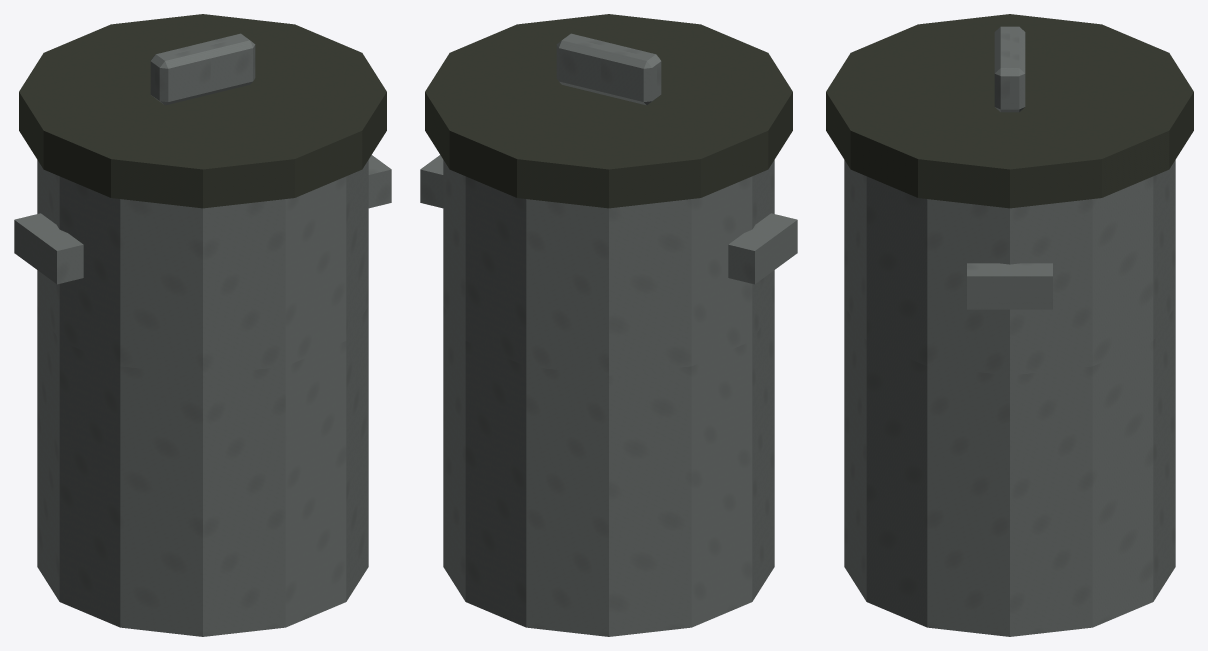
File: trash_bin.glb
The picture shows the model from 3 angles, left to right: view 1: azimuth 30°, elevation 25°; view 2: azimuth 150°, elevation 25°; view 3: azimuth 270°, elevation 25°; orthographic projection.
Visible parts, largest first — view 1: DD_trash_bin; view 2: DD_trash_bin; view 3: DD_trash_bin.
Part boxes in pixels (x1=…): DD_trash_bin: x1=14, y1=14, x2=391, y2=636; DD_trash_bin: x1=420, y1=14, x2=797, y2=636; DD_trash_bin: x1=826, y1=14, x2=1193, y2=636.
Size of the model in its own units: 0.63 by 0.935 by 0.6.
Materials: 2 (2 with a texture image).
